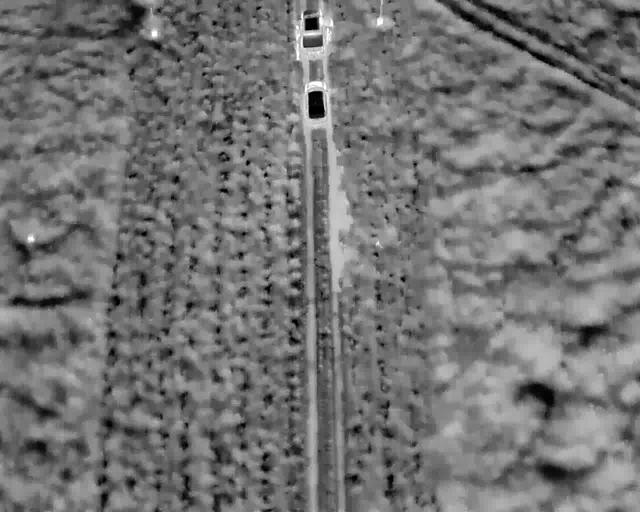car: (296, 195, 328, 262), (301, 303, 333, 363)
person: (289, 188, 301, 208), (289, 246, 301, 266), (325, 215, 336, 235), (334, 203, 345, 223)
